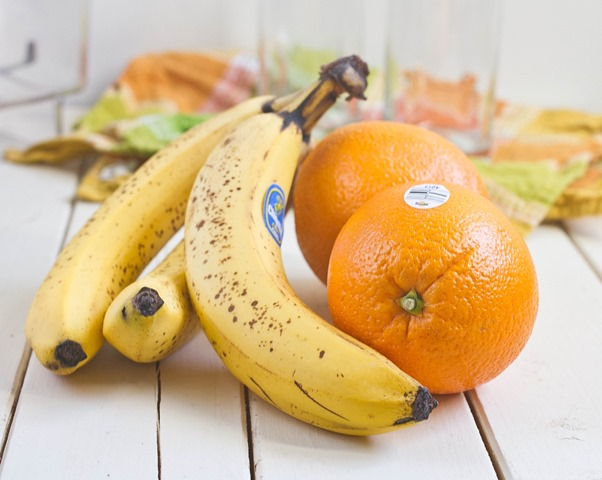banana: (192, 110, 306, 444), (113, 76, 284, 220), (12, 217, 117, 446), (281, 324, 431, 445), (106, 264, 207, 387)
